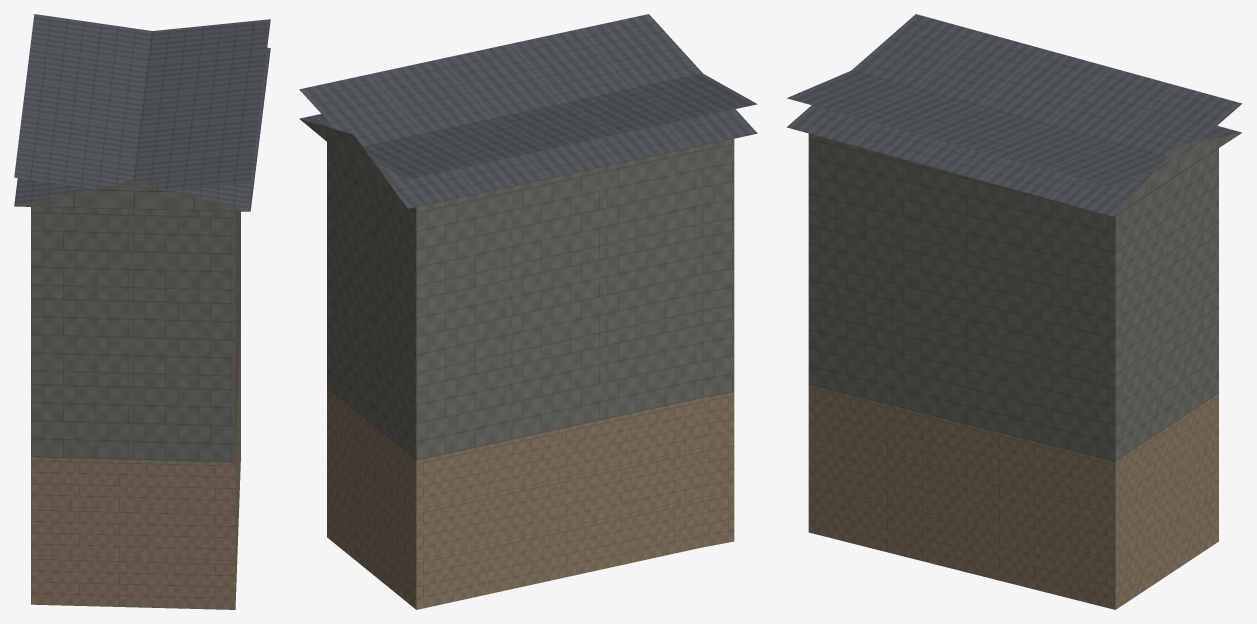
The model's file is bld_c3_16_461.gltf.
3 views of the same model, side by side, from view 1: azimuth 30°, elevation 25°; view 2: azimuth 150°, elevation 25°; view 3: azimuth 270°, elevation 25° (orthographic).
Visible parts, largest first — view 1: bld_c3_16_461; view 2: bld_c3_16_461; view 3: bld_c3_16_461.
Boxes of the visible parts, <box> form: bld_c3_16_461: <box>14,14,270,609</box>; bld_c3_16_461: <box>299,14,757,609</box>; bld_c3_16_461: <box>787,14,1242,609</box>.
Bounding box in the file's own units: 12.83 × 15 × 14.22.
Materials: 4 (4 with a texture image).
